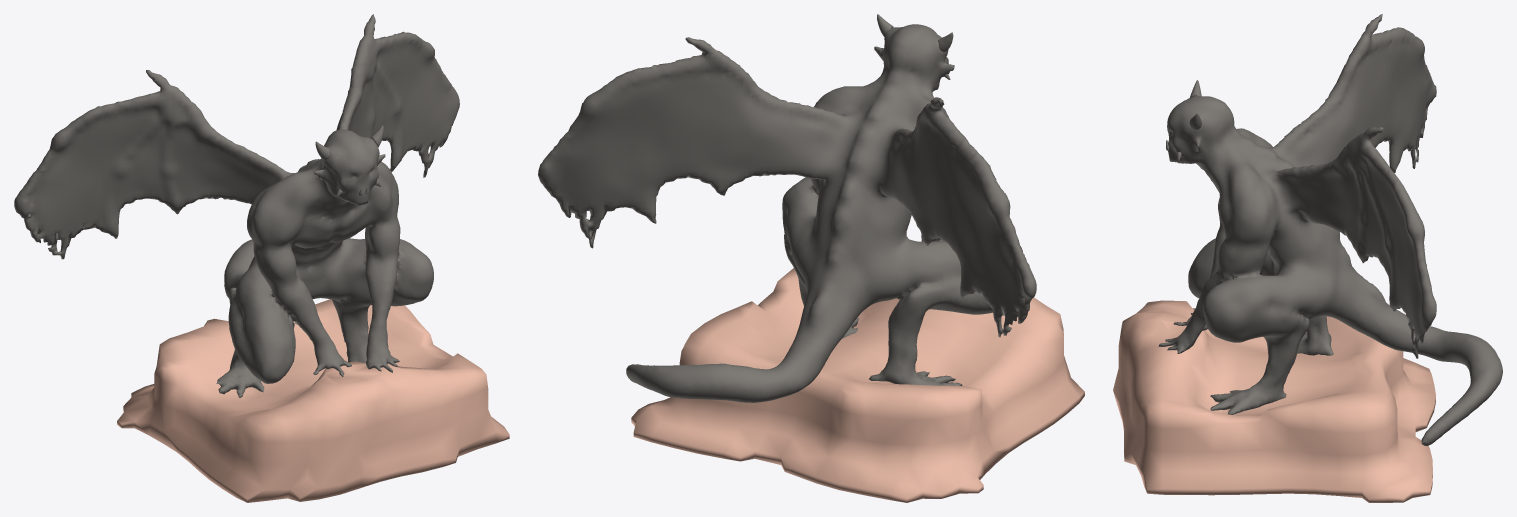
File: gargoyle-sf.blend.fbx
3 views of the same model, side by side, from view 1: azimuth 30°, elevation 25°; view 2: azimuth 150°, elevation 25°; view 3: azimuth 270°, elevation 25° (orthographic). The views are drawn at different scales.
Visible parts, largest first — view 1: gargoyle, platform; view 2: gargoyle, platform; view 3: gargoyle, platform.
Part boxes in pixels (<box>): gargoyle: <box>14,14,459,397</box>; platform: <box>117,299,509,502</box>; gargoyle: <box>538,24,1036,402</box>; platform: <box>631,268,1084,502</box>; gargoyle: <box>1158,14,1502,445</box>; platform: <box>1113,300,1435,502</box>.
Bounding box in the file's own units: 574 × 430 × 426.
